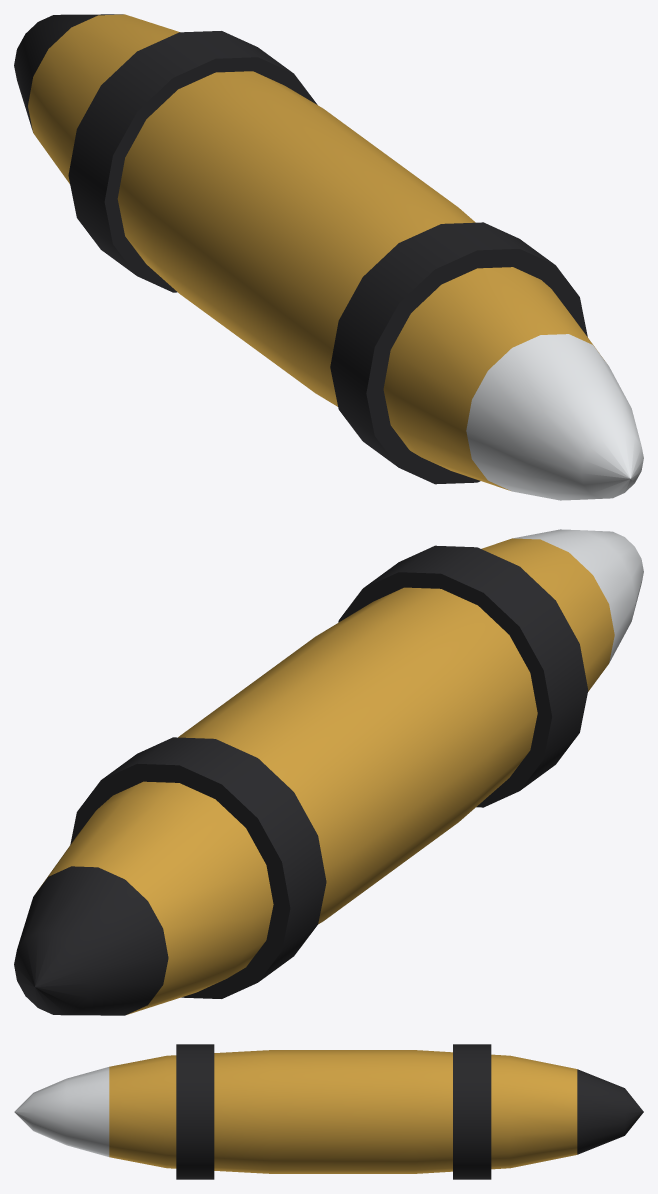
The model's file is rd1_body.obj.
3 renders of one model, top to bottom at view 1: azimuth 30°, elevation 25°; view 2: azimuth 150°, elevation 25°; view 3: azimuth 270°, elevation 25°, orthographic. The views are drawn at different scales.
Visible parts, largest first — view 1: rd1_body; view 2: rd1_body; view 3: rd1_body.
Boxes of the visible parts, x1,y1,x2,y2 form: rd1_body: (14, 14, 643, 500); rd1_body: (14, 529, 643, 1015); rd1_body: (14, 1044, 643, 1179).
Size of the model in its own units: 0.284 by 0.284 by 1.32.
